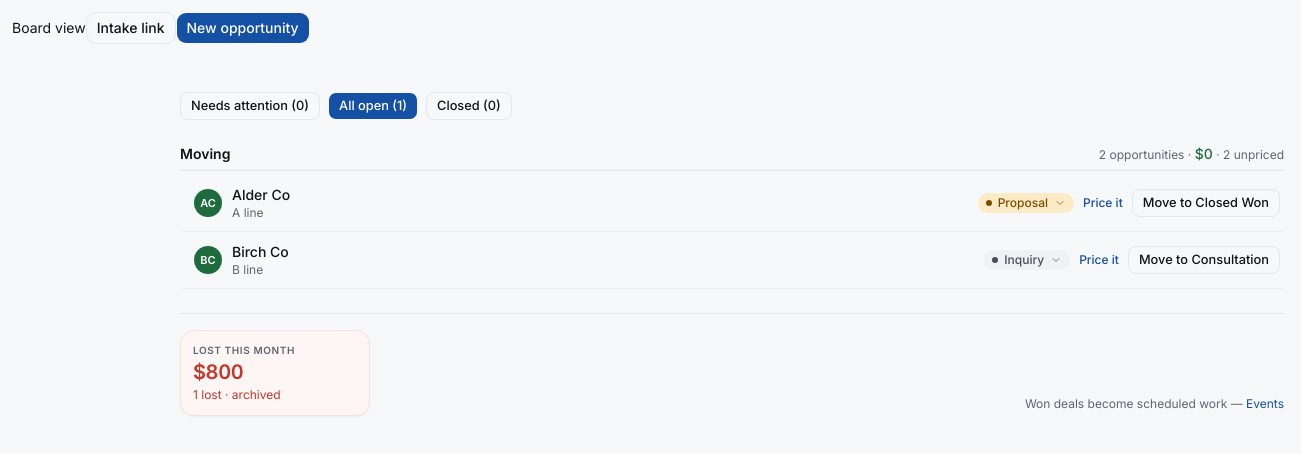
Scenario: PipelineListClient › keeps one row’s refusal on screen when a different row’s move lands
Click the button "Move to Closed Won": (1206, 203) [1132, 189, 1280, 217]
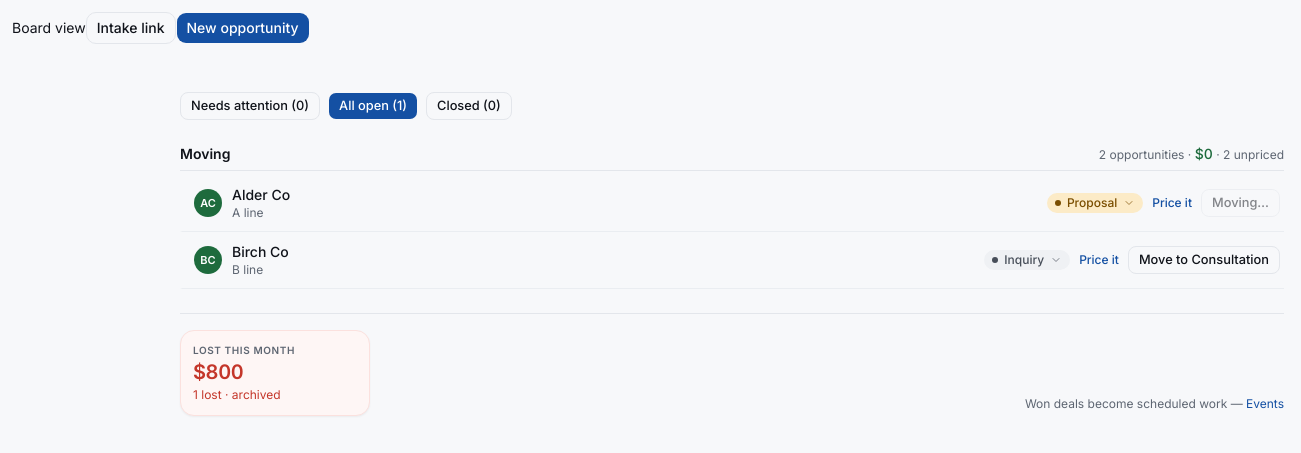
Click the button "Move to Consultation": (1204, 260) [1128, 246, 1280, 274]
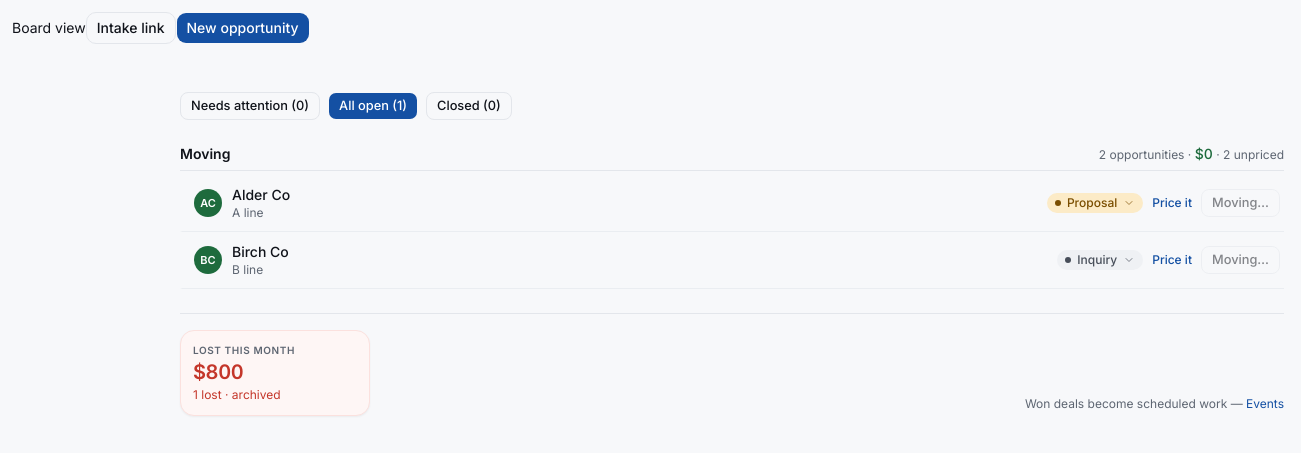
Click the button with aria-label "Stage: Proposal": (1095, 203) [1047, 193, 1143, 213]
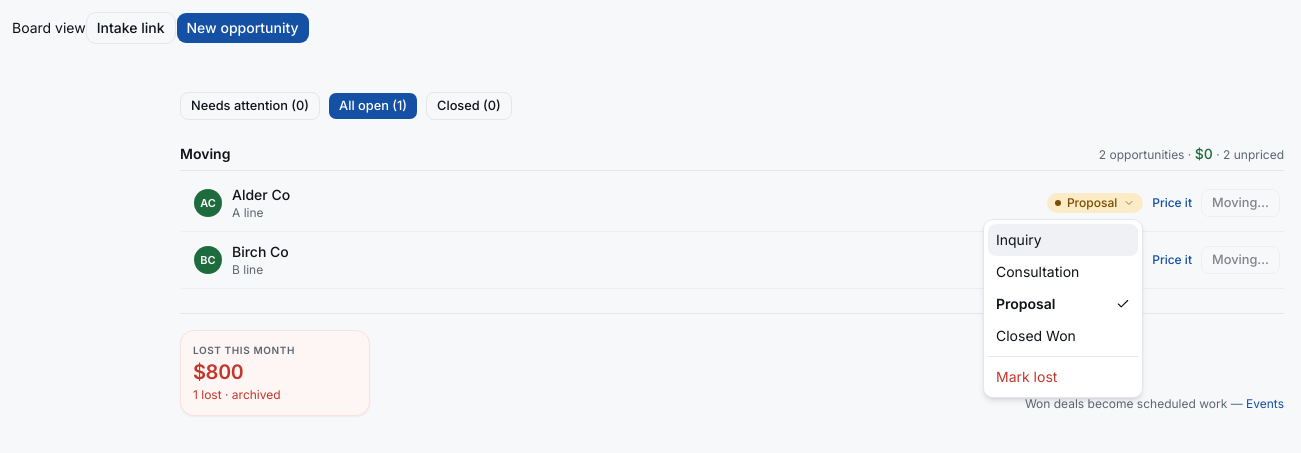
Click the menu item "Consultation": (1038, 272) [996, 263, 1079, 280]
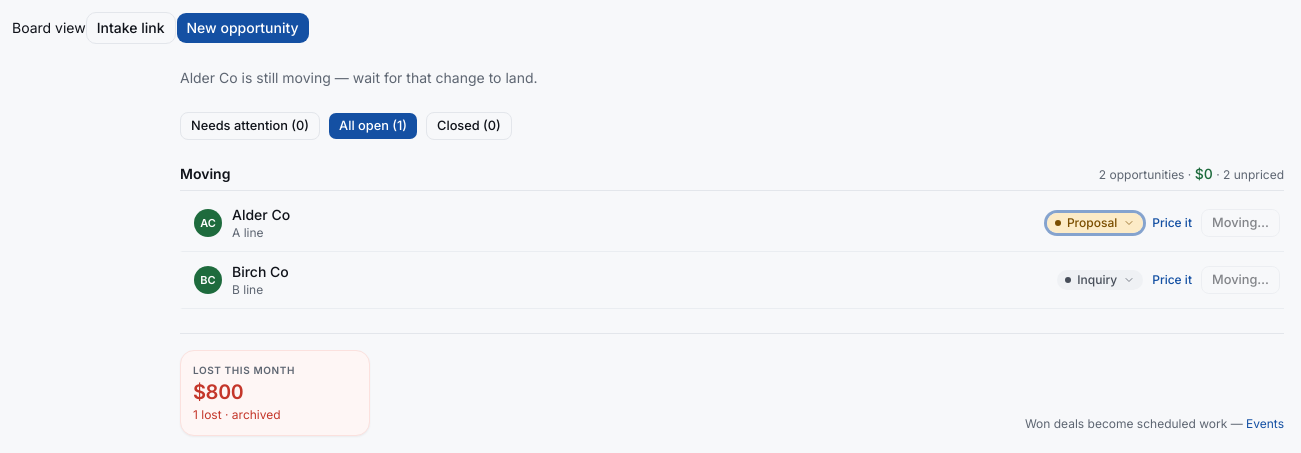
Expected: the text "Alder Co is still moving — wait for that change to land." is shown, [180, 69, 538, 86]
